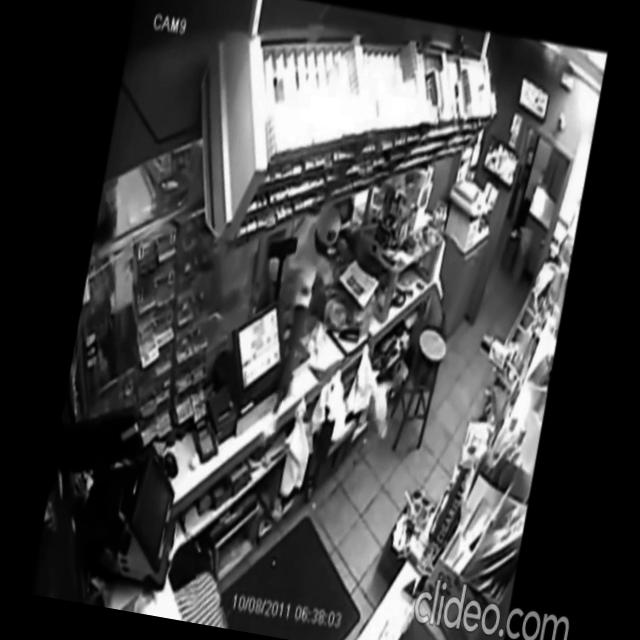gun: (269, 368, 296, 418)
person with a gun: (254, 192, 349, 424)
